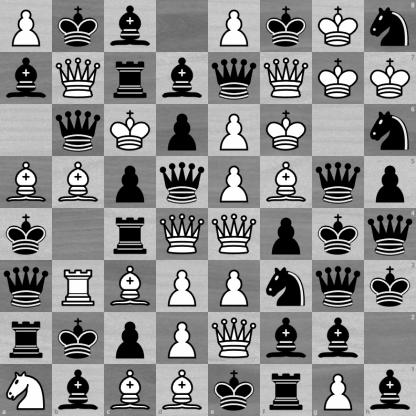B: (156, 364, 209, 416), (104, 364, 156, 416), (1, 157, 52, 208), (53, 157, 104, 208), (105, 261, 156, 312), (261, 157, 312, 208)
K: (364, 52, 416, 104), (105, 105, 156, 156), (261, 105, 312, 156), (313, 1, 364, 52), (313, 53, 364, 104)
N: (0, 364, 52, 416)
P: (312, 364, 364, 416), (1, 1, 52, 52), (157, 261, 208, 312), (157, 313, 208, 364), (209, 1, 260, 52), (209, 105, 260, 156), (209, 157, 260, 208), (209, 261, 260, 312)
Q: (53, 53, 104, 104), (157, 209, 208, 260), (209, 209, 260, 260), (209, 313, 260, 364), (261, 53, 312, 104)
R: (53, 261, 104, 312)
b: (52, 364, 104, 416), (364, 364, 416, 416), (1, 53, 52, 104), (105, 1, 156, 52), (157, 53, 208, 104), (261, 313, 312, 364), (313, 313, 364, 364)
board: (0, 0, 415, 415)
k: (364, 260, 416, 312), (209, 364, 260, 416), (1, 209, 52, 260), (53, 1, 104, 52), (53, 313, 104, 364), (261, 1, 312, 52), (313, 209, 364, 260)
n: (364, 0, 416, 52), (364, 104, 416, 156), (261, 261, 312, 312)
p: (364, 156, 416, 209), (105, 157, 156, 208), (105, 313, 156, 364), (157, 105, 208, 156), (261, 209, 312, 260)
q: (364, 209, 416, 260), (1, 261, 52, 312), (53, 105, 104, 156), (157, 157, 208, 208), (209, 53, 260, 104), (313, 157, 364, 208), (313, 261, 364, 312)
r: (260, 364, 312, 416), (1, 313, 52, 364), (105, 53, 156, 104), (105, 209, 156, 260)
